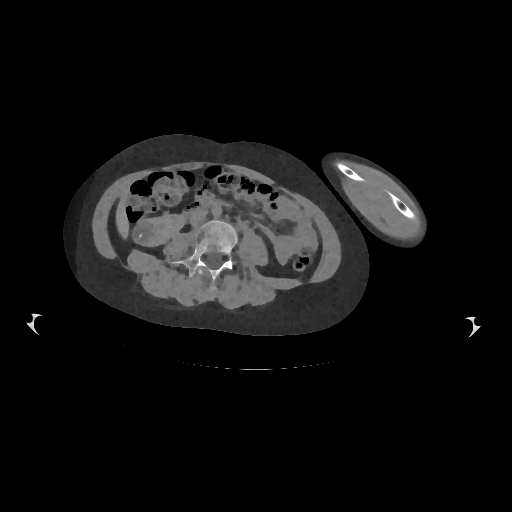Lesion: (134, 228, 146, 242)
